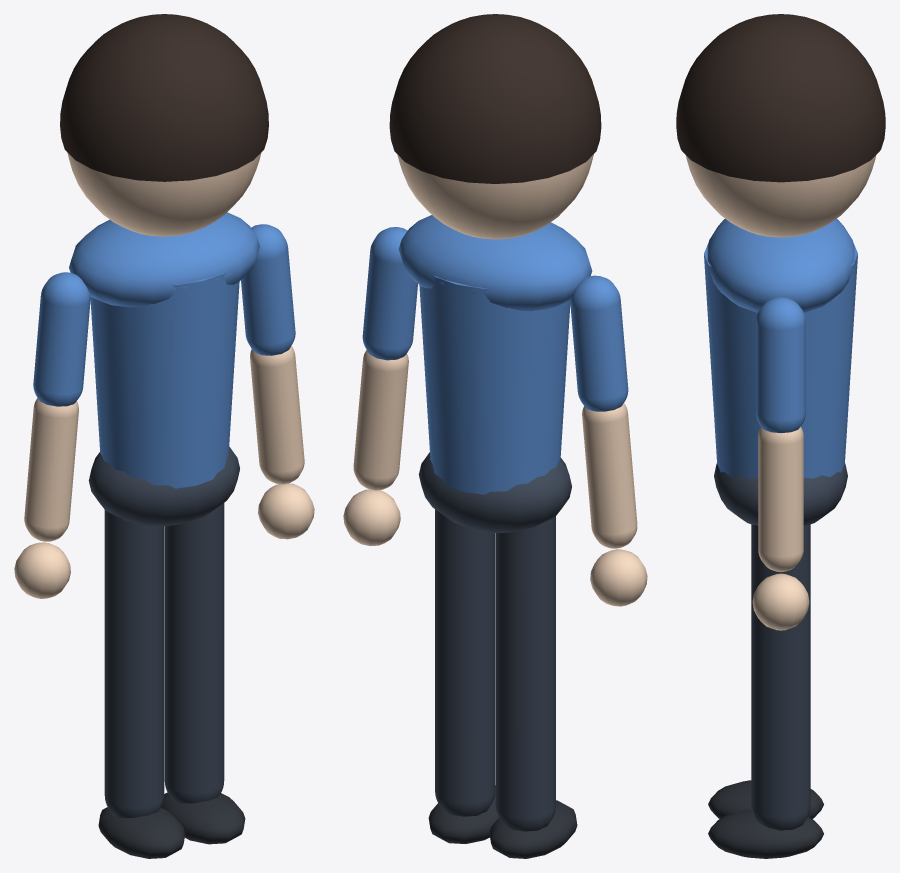
Rendered from boy.glb.
3 views of the same model, side by side, from view 1: azimuth 30°, elevation 25°; view 2: azimuth 150°, elevation 25°; view 3: azimuth 270°, elevation 25° (orthographic).
Parts seen in each view (by area): view 1: hair_cap, torso_top, leg_l_pants, leg_r_pants, forearm (×2), sleeve_top (×2), shoulder_top, head, pelvis_pants, hand (×2), shoe_l, shoe_r; view 2: hair_cap, torso_top, leg_l_pants, leg_r_pants, forearm (×2), sleeve_top (×2), shoulder_top, head, pelvis_pants, hand (×2), shoe_l, shoe_r; view 3: hair_cap, torso_top, leg_r_pants, shoulder_top, head, sleeve_top, forearm, shoe_r, pelvis_pants, hand, shoe_l.
Boxes of the visible parts, bbox=[...] form: hair_cap: bbox=[60, 14, 268, 181]; torso_top: bbox=[90, 272, 239, 488]; leg_l_pants: bbox=[104, 510, 164, 817]; leg_r_pants: bbox=[164, 503, 224, 803]; forearm (×2): bbox=[24, 345, 304, 541]; sleeve_top (×2): bbox=[33, 224, 295, 406]; shoulder_top: bbox=[69, 212, 259, 307]; head: bbox=[67, 152, 261, 236]; pelvis_pants: bbox=[88, 447, 239, 526]; hand (×2): bbox=[14, 483, 314, 598]; shoe_l: bbox=[98, 807, 185, 858]; shoe_r: bbox=[161, 792, 245, 844]; hair_cap: bbox=[389, 14, 601, 183]; torso_top: bbox=[419, 275, 570, 494]; leg_l_pants: bbox=[495, 516, 555, 831]; leg_r_pants: bbox=[435, 509, 495, 816]; forearm (×2): bbox=[353, 350, 637, 548]; sleeve_top (×2): bbox=[362, 227, 628, 411]; shoulder_top: bbox=[398, 215, 592, 311]; head: bbox=[397, 154, 593, 239]; pelvis_pants: bbox=[418, 452, 571, 532]; hand (×2): bbox=[343, 489, 647, 606]; shoe_l: bbox=[489, 800, 577, 858]; shoe_r: bbox=[428, 785, 498, 843]; hair_cap: bbox=[676, 14, 885, 182]; torso_top: bbox=[704, 243, 857, 478]; leg_r_pants: bbox=[751, 524, 810, 830]; shoulder_top: bbox=[706, 219, 855, 312]; head: bbox=[685, 155, 876, 237]; sleeve_top: bbox=[756, 297, 805, 432]; forearm: bbox=[758, 426, 803, 571]; shoe_r: bbox=[708, 809, 823, 858]; pelvis_pants: bbox=[714, 463, 847, 525]; hand: bbox=[752, 573, 809, 630]; shoe_l: bbox=[708, 780, 823, 818].
Bounding box in the file's own units: 0.6572 × 1.74 × 0.4064.
